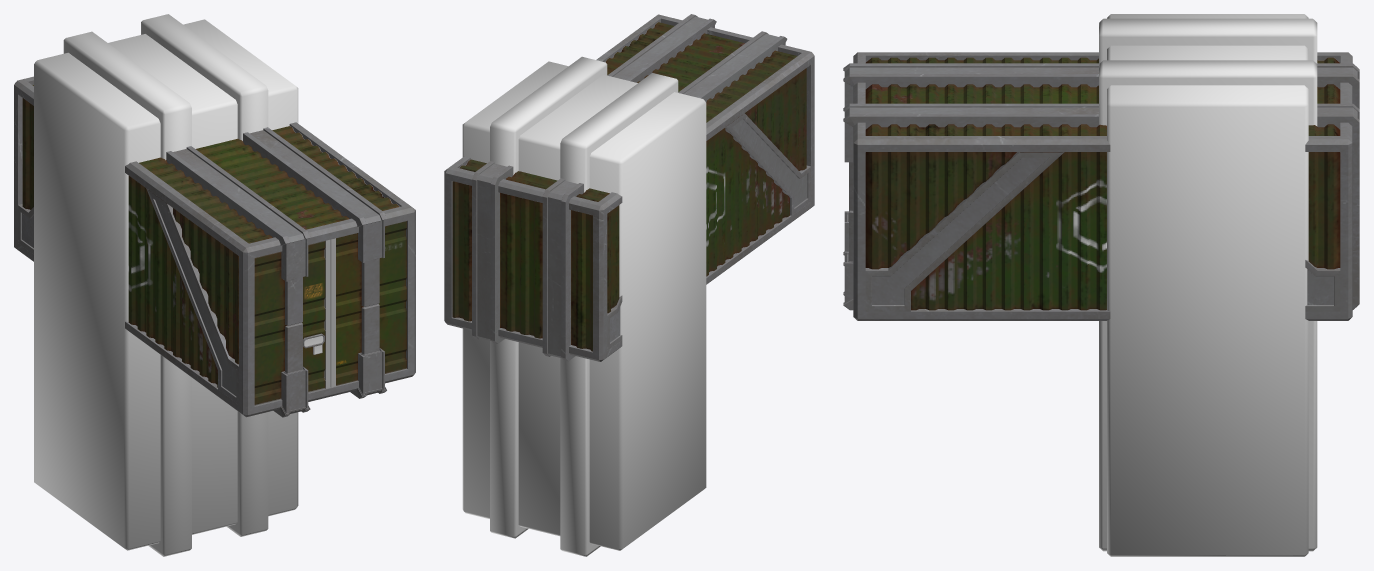
The model's file is SM_Large_Container.fbx.
3 views of the same model, side by side, from view 1: azimuth 30°, elevation 25°; view 2: azimuth 150°, elevation 25°; view 3: azimuth 270°, elevation 25° (orthographic). The views are drawn at different scales.
Visible parts, largest first — view 1: SM_Large_Container_ConvexHulls, SM_Large_Container; view 2: SM_Large_Container_ConvexHulls, SM_Large_Container; view 3: SM_Large_Container_ConvexHulls, SM_Large_Container.
Part boxes in pixels (x1=…): SM_Large_Container_ConvexHulls: x1=34, y1=14, x2=298, y2=556; SM_Large_Container: x1=14, y1=76, x2=415, y2=417; SM_Large_Container_ConvexHulls: x1=462, y1=56, x2=706, y2=556; SM_Large_Container: x1=444, y1=14, x2=814, y2=361; SM_Large_Container_ConvexHulls: x1=1099, y1=14, x2=1317, y2=556; SM_Large_Container: x1=843, y1=52, x2=1359, y2=320.
Size of the model in its own units: 2.64 by 6.47 by 6.31.
